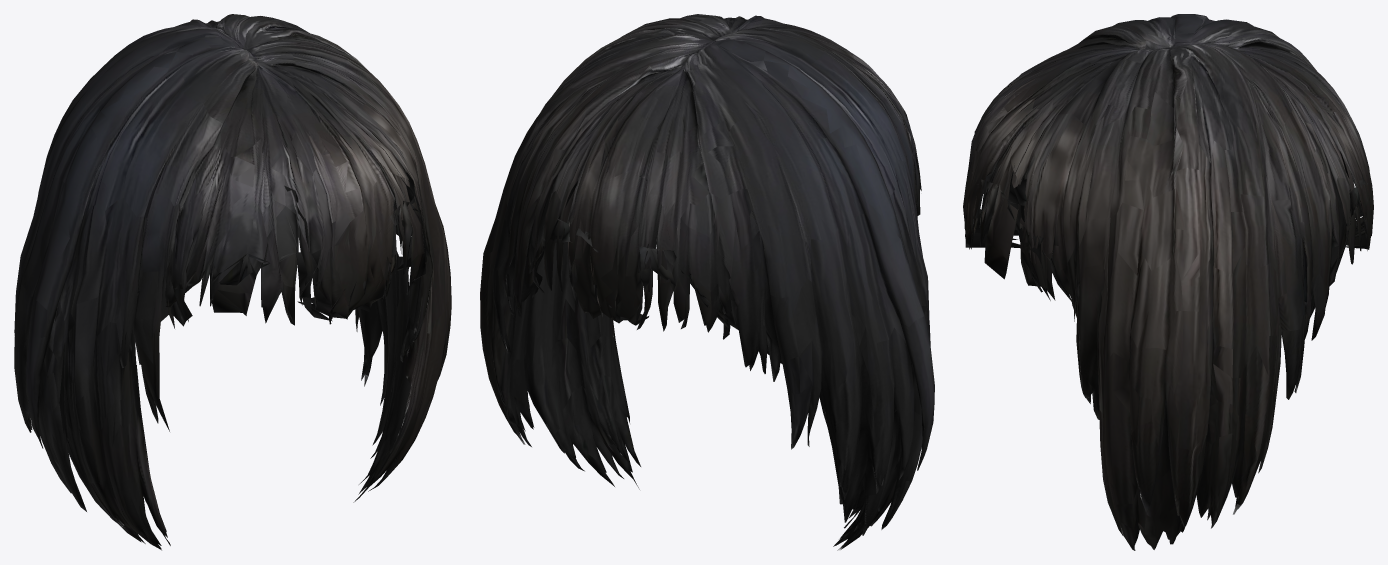
File: pelo_bob.glb
3 renders of one model, left to right at view 1: azimuth 30°, elevation 25°; view 2: azimuth 150°, elevation 25°; view 3: azimuth 270°, elevation 25°, orthographic. The views are drawn at different scales.
Visible parts, largest first — view 1: pelo_bob; view 2: pelo_bob; view 3: pelo_bob.
Part boxes in pixels (x1,y1,x2,y2): pelo_bob: (14,14,451,550); pelo_bob: (480,14,934,550); pelo_bob: (963,14,1373,550).
Bounding box in the file's own units: 0.2385 × 0.2673 × 0.21.
1 material, 1 textured.
